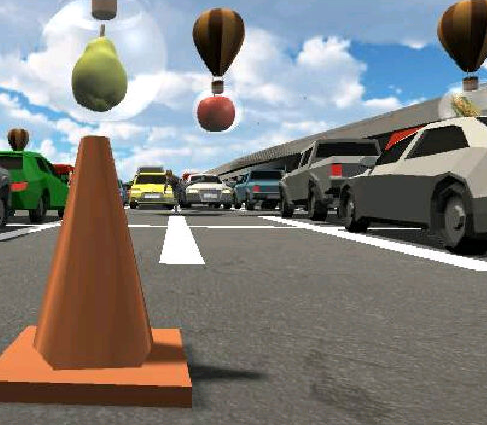turn_right: (164, 168, 209, 212)
